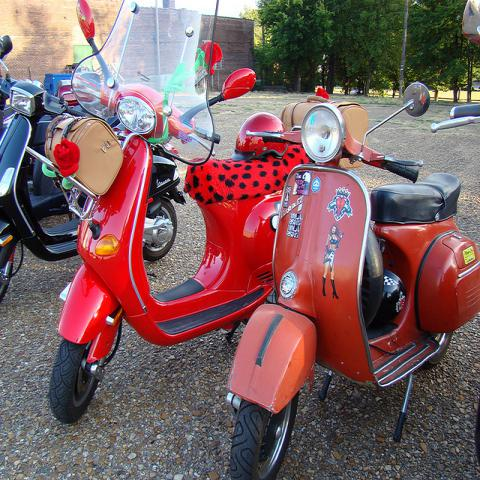motorcycle: (224, 83, 480, 479), (58, 1, 303, 411), (0, 35, 77, 304)
